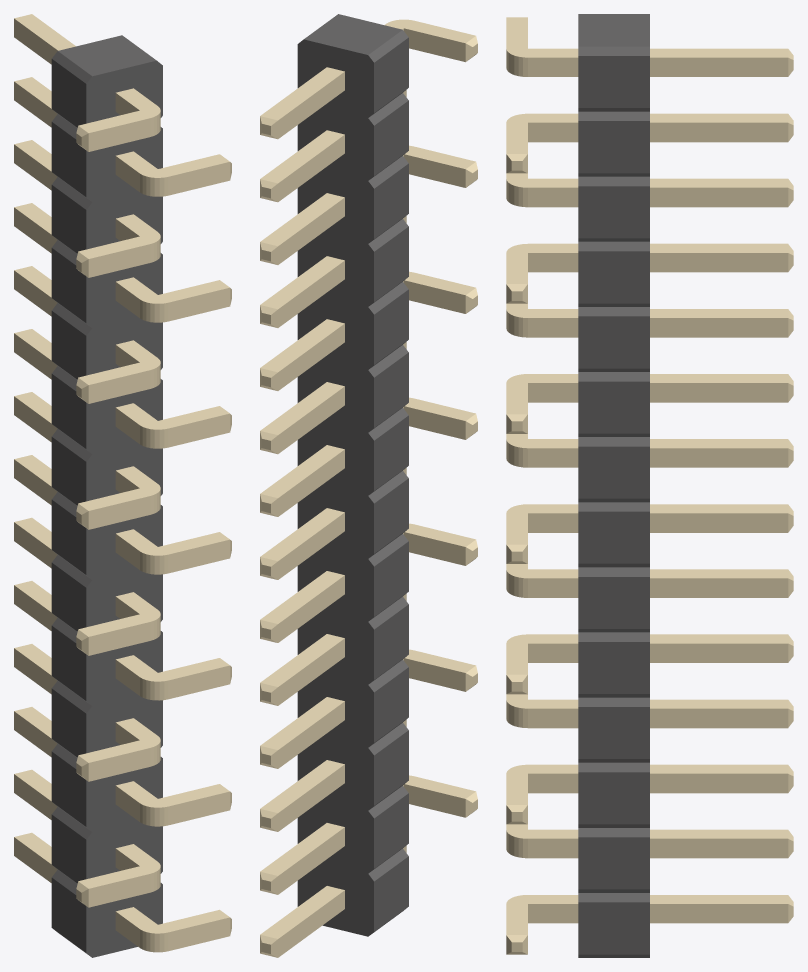
File: PinHeader_1x14_P1.00mm_Vertical_SMD_Pin1Right.glb
The picture shows the model from 3 angles, left to right: view 1: azimuth 30°, elevation 25°; view 2: azimuth 150°, elevation 25°; view 3: azimuth 270°, elevation 25°; orthographic projection. The views are drawn at different scales.
Visible parts, largest first — view 1: Shape_IndexedFaceSet.003, Shape_IndexedFaceSet.001, Shape_IndexedFaceSet.025, Shape_IndexedFaceSet.037, Shape_IndexedFaceSet.061, Shape_IndexedFaceSet.073, Shape_IndexedFaceSet.085, Shape_IndexedFaceSet.049, Shape_IndexedFaceSet.013, Shape_IndexedFaceSet.031, Shape_IndexedFaceSet.007, Shape_IndexedFaceSet.019 (+74 smaller); view 2: Shape_IndexedFaceSet.004, Shape_IndexedFaceSet.001, Shape_IndexedFaceSet.037, Shape_IndexedFaceSet.007, Shape_IndexedFaceSet.013, Shape_IndexedFaceSet.031, Shape_IndexedFaceSet.043, Shape_IndexedFaceSet.049, Shape_IndexedFaceSet.067, Shape_IndexedFaceSet.073, Shape_IndexedFaceSet.019, Shape_IndexedFaceSet.025 (+46 smaller); view 3: Shape_IndexedFaceSet.010, Shape_IndexedFaceSet.016, Shape_IndexedFaceSet.022, Shape_IndexedFaceSet.028, Shape_IndexedFaceSet.034, Shape_IndexedFaceSet.040, Shape_IndexedFaceSet.046, Shape_IndexedFaceSet.070, Shape_IndexedFaceSet.076, Shape_IndexedFaceSet.082, Shape_IndexedFaceSet.002, Shape_IndexedFaceSet.052 (+73 smaller).
Boxes of the visible parts, box(x1,y1,x2,y2) form: Shape_IndexedFaceSet.003: box(86, 60, 162, 957); Shape_IndexedFaceSet.001: box(58, 35, 156, 76); Shape_IndexedFaceSet.025: box(51, 248, 86, 322); Shape_IndexedFaceSet.037: box(51, 374, 86, 448); Shape_IndexedFaceSet.061: box(51, 626, 86, 700); Shape_IndexedFaceSet.073: box(51, 751, 86, 826); Shape_IndexedFaceSet.085: box(51, 878, 86, 952); Shape_IndexedFaceSet.049: box(51, 500, 86, 574); Shape_IndexedFaceSet.013: box(51, 122, 86, 196); Shape_IndexedFaceSet.031: box(51, 311, 86, 379); Shape_IndexedFaceSet.007: box(51, 59, 86, 127); Shape_IndexedFaceSet.019: box(51, 185, 86, 253); Shape_IndexedFaceSet.004: box(297, 39, 373, 936); Shape_IndexedFaceSet.001: box(304, 14, 402, 54); Shape_IndexedFaceSet.037: box(374, 352, 408, 427); Shape_IndexedFaceSet.007: box(374, 37, 408, 112); Shape_IndexedFaceSet.013: box(374, 100, 408, 175); Shape_IndexedFaceSet.031: box(374, 289, 408, 364); Shape_IndexedFaceSet.043: box(374, 415, 408, 490); Shape_IndexedFaceSet.049: box(374, 478, 408, 553); Shape_IndexedFaceSet.067: box(374, 667, 408, 742); Shape_IndexedFaceSet.073: box(374, 730, 408, 805); Shape_IndexedFaceSet.019: box(374, 163, 408, 238); Shape_IndexedFaceSet.025: box(374, 226, 408, 301); Shape_IndexedFaceSet.010: box(578, 121, 649, 173); Shape_IndexedFaceSet.016: box(578, 186, 649, 238); Shape_IndexedFaceSet.022: box(578, 251, 649, 303); Shape_IndexedFaceSet.028: box(578, 316, 649, 368); Shape_IndexedFaceSet.034: box(578, 381, 649, 433); Shape_IndexedFaceSet.040: box(578, 446, 649, 498); Shape_IndexedFaceSet.046: box(578, 511, 649, 563); Shape_IndexedFaceSet.070: box(578, 772, 649, 824); Shape_IndexedFaceSet.076: box(578, 837, 649, 889); Shape_IndexedFaceSet.082: box(578, 902, 649, 954); Shape_IndexedFaceSet.002: box(578, 56, 649, 107); Shape_IndexedFaceSet.052: box(578, 577, 649, 628).
Size of the model in its own units: 0.984 by 5.51 by 1.58.
